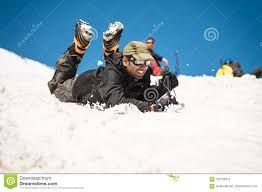falling: (49, 14, 182, 118)
